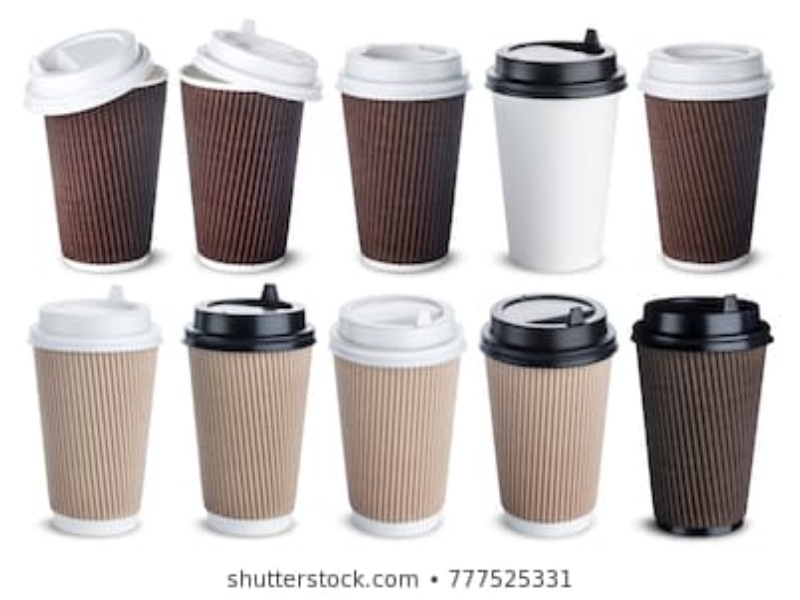coffee-lid: (20, 27, 152, 116), (193, 17, 324, 102), (479, 293, 620, 366), (484, 29, 632, 98), (326, 295, 465, 367), (181, 279, 317, 351), (32, 281, 161, 351), (630, 296, 773, 349), (338, 41, 469, 98), (644, 42, 773, 98)
plastic-cup: (177, 282, 313, 539), (634, 296, 774, 539), (483, 31, 623, 272), (332, 39, 471, 274), (30, 282, 156, 538), (330, 294, 463, 535), (482, 298, 615, 536), (175, 61, 312, 272), (643, 44, 771, 268), (29, 64, 167, 270)
